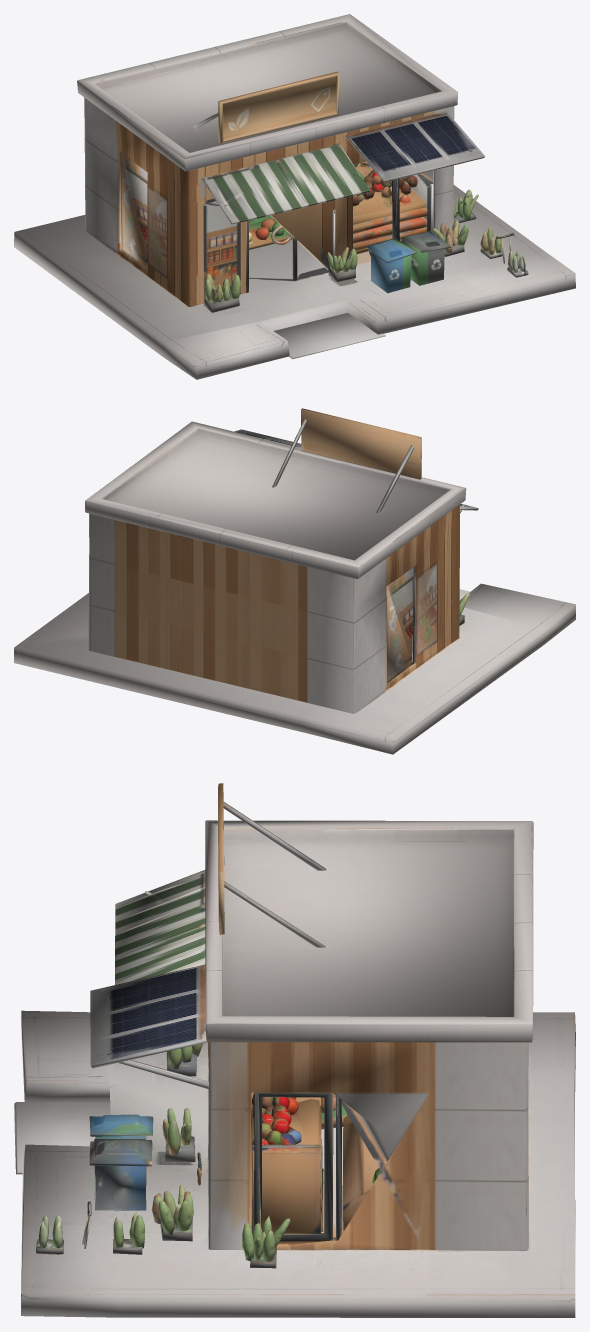
The model's file is Market.fbx.
The picture shows the model from 3 angles, top to bottom: view 1: azimuth 30°, elevation 25°; view 2: azimuth 150°, elevation 25°; view 3: azimuth 270°, elevation 25°; orthographic projection. The views are drawn at different scales.
Parts seen in each view (by area): view 1: Mesh_0; view 2: Mesh_0; view 3: Mesh_0.
Boxes of the visible parts, left/top/right/bottom form: Mesh_0: left=14, top=14, right=575, bottom=379; Mesh_0: left=14, top=408, right=575, bottom=754; Mesh_0: left=14, top=783, right=575, bottom=1317.
Size of the model in its own units: 100 by 53.14 by 84.63.
1 material, 1 textured.
